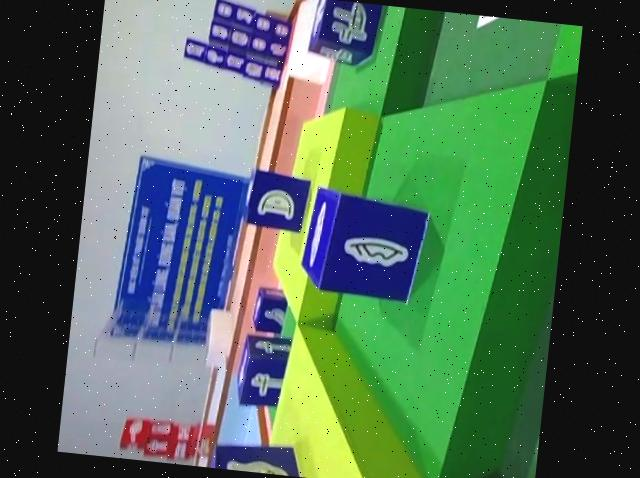R2 Real Blue: (301, 186, 436, 305), (307, 0, 386, 66), (243, 165, 314, 231), (204, 436, 313, 478), (233, 332, 292, 409), (249, 286, 289, 337)
